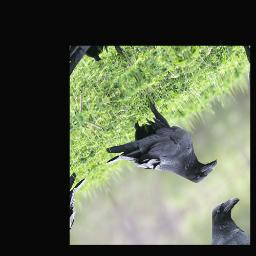Crow: (91, 81, 221, 225)
